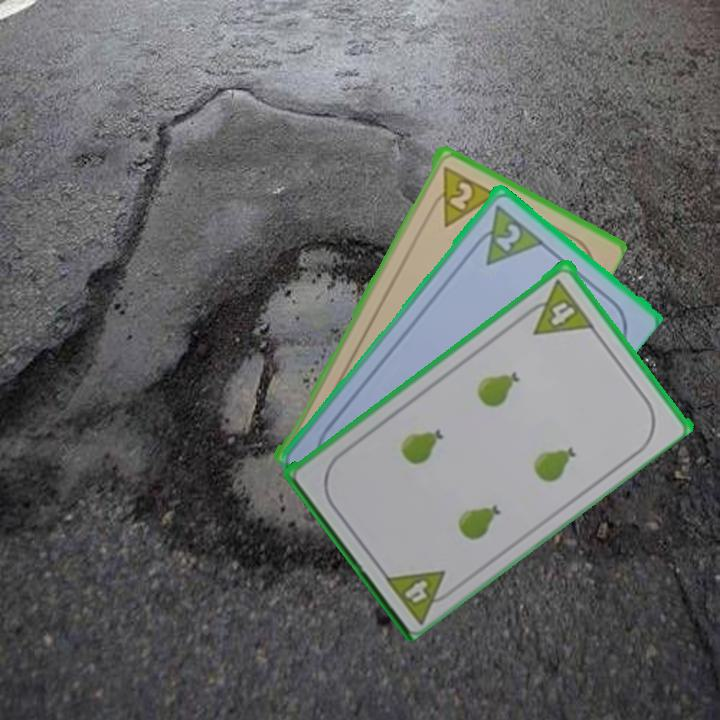2p: (425, 162, 497, 229), (491, 219, 524, 254)
4p: (519, 274, 596, 338), (380, 565, 461, 625)
